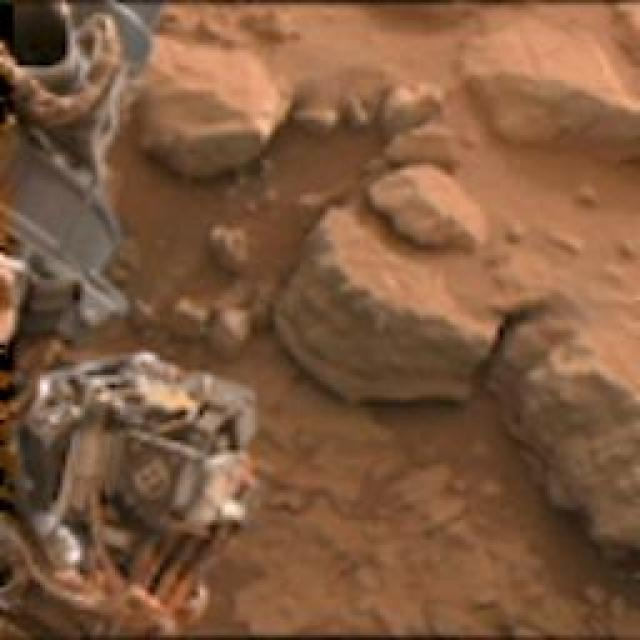rock: (274, 208, 492, 408), (486, 314, 640, 568), (460, 31, 640, 172), (132, 48, 296, 184), (356, 170, 494, 246), (374, 78, 451, 142), (380, 130, 470, 163), (207, 223, 248, 270), (214, 310, 250, 354), (165, 302, 205, 341)
